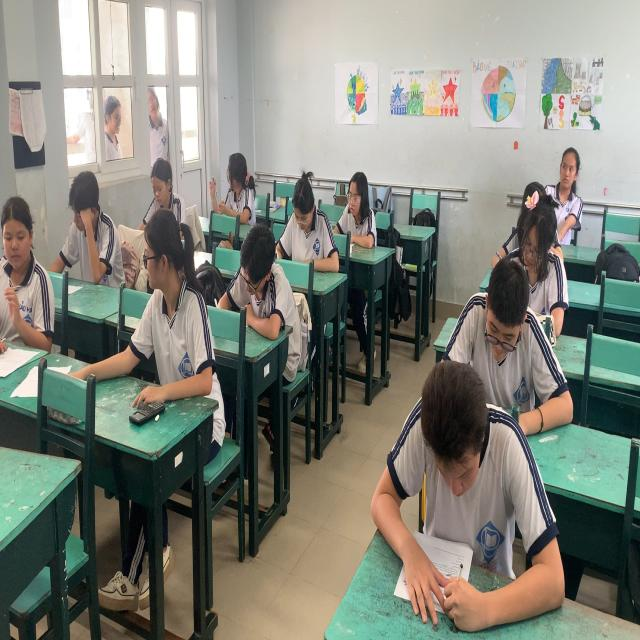cheating: (131, 212, 218, 403), (0, 188, 57, 378), (205, 143, 259, 229)
not_cheating: (372, 358, 552, 637), (452, 258, 556, 430), (502, 182, 570, 340), (225, 219, 286, 351), (56, 167, 126, 281), (279, 160, 341, 278), (550, 136, 588, 251), (139, 150, 193, 230), (331, 171, 380, 250)
